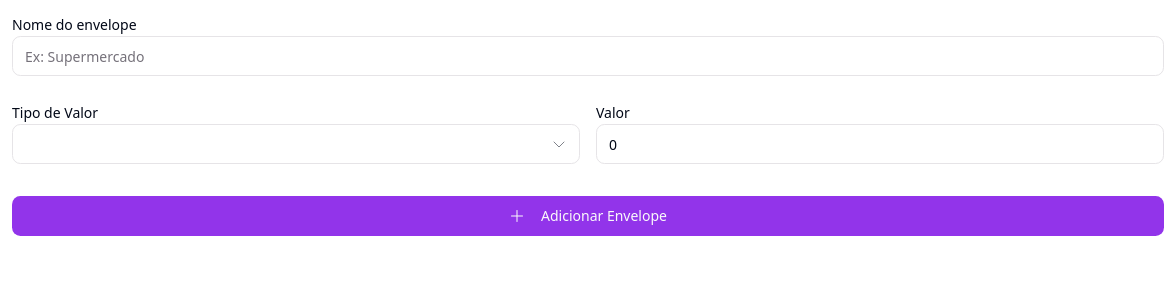
Test: EnvelopeForm - Integração Simples › Fluxo Básico de Criação › deve validar campos obrigatórios
// Tentar submeter sem preencher
What coordinates should you click on to do the following:
click the button "Adicionar Envelope"
I would click on:
 (588, 216)
Its box is [12,196,1164,236].
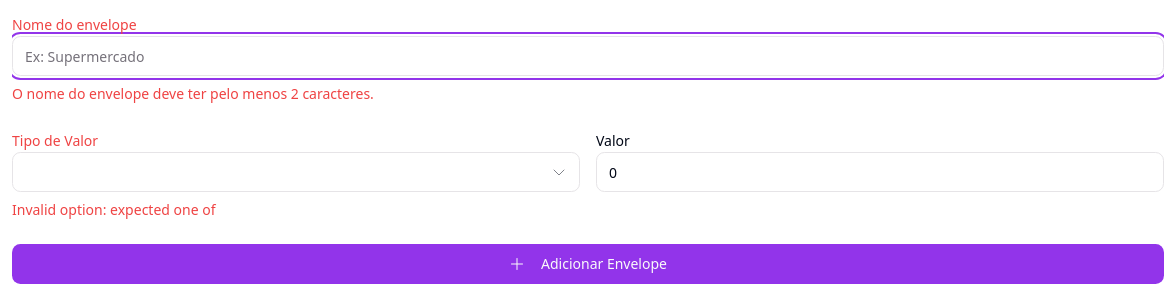
Expected: the text "O nome do envelope deve ter pelo menos 2 caracteres." is shown, [12,84,374,103]
